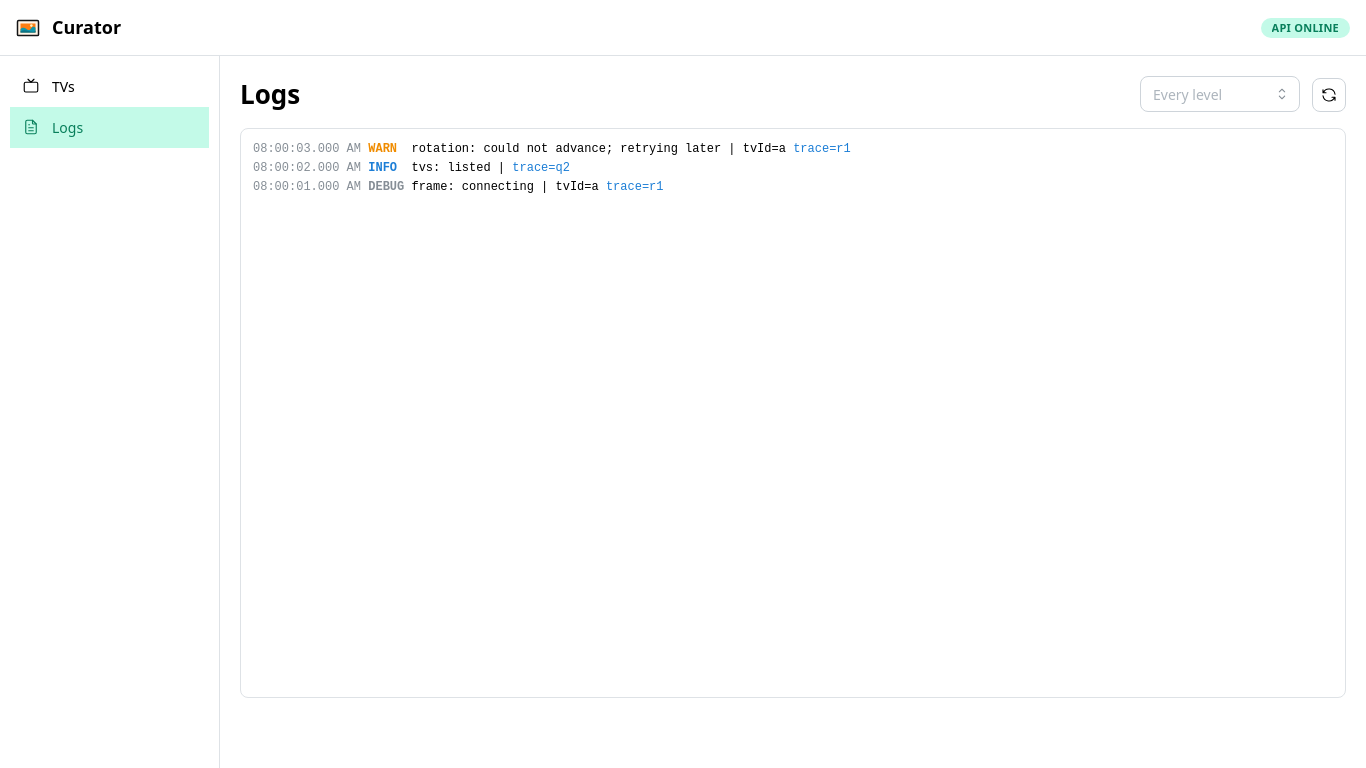
Test case: Logs page › narrows to one trace when its id is picked, and back
The width and height of the screenshot is (1366, 768).
Click the text "trace=r1" in the row of "WARN" at (815, 149), box [793, 142, 851, 156]
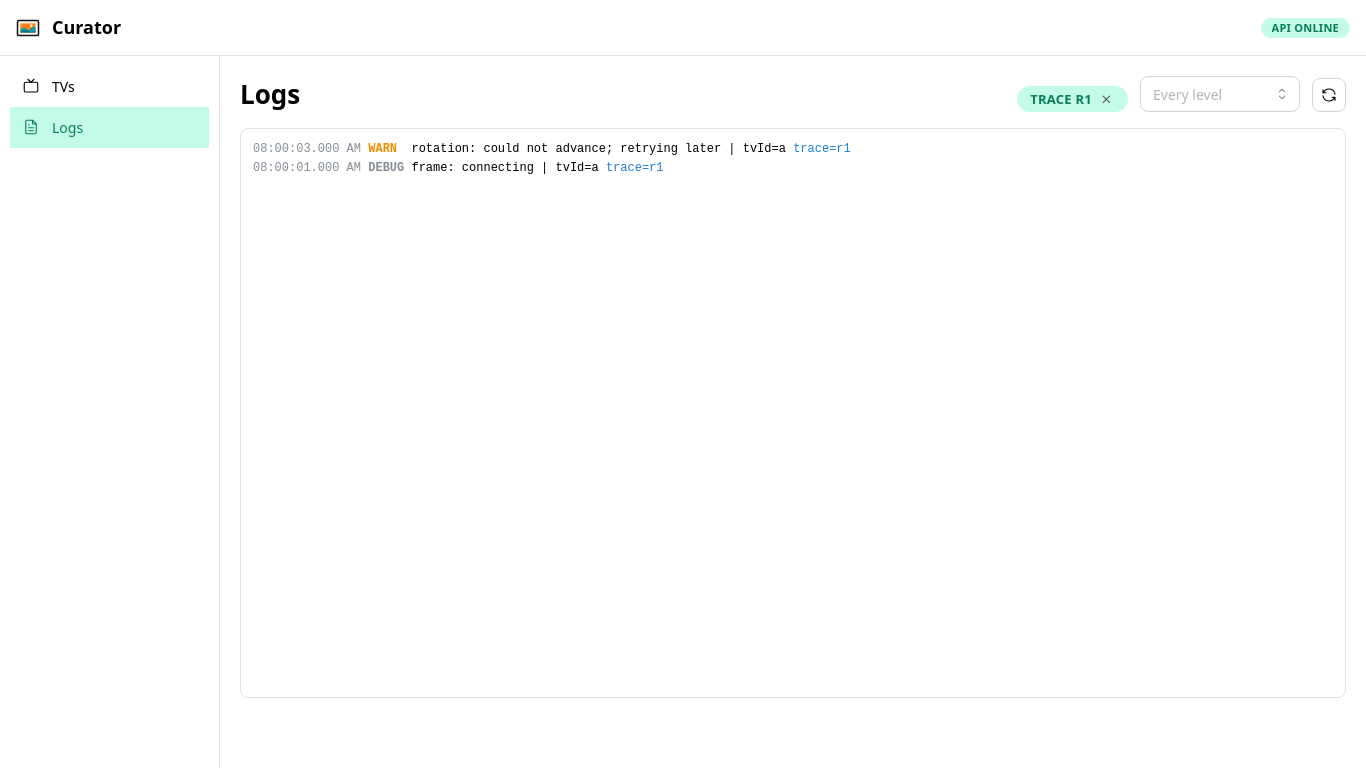
Expected: the text "08:00:01.000 AM DEBUG frame: connecting | tvId=a trace=r1" is shown, [253, 161, 664, 175]
Result: the text "tvs: listed" is gone
Click the button named "Show every trace" at (1106, 99), box [1097, 90, 1115, 108]
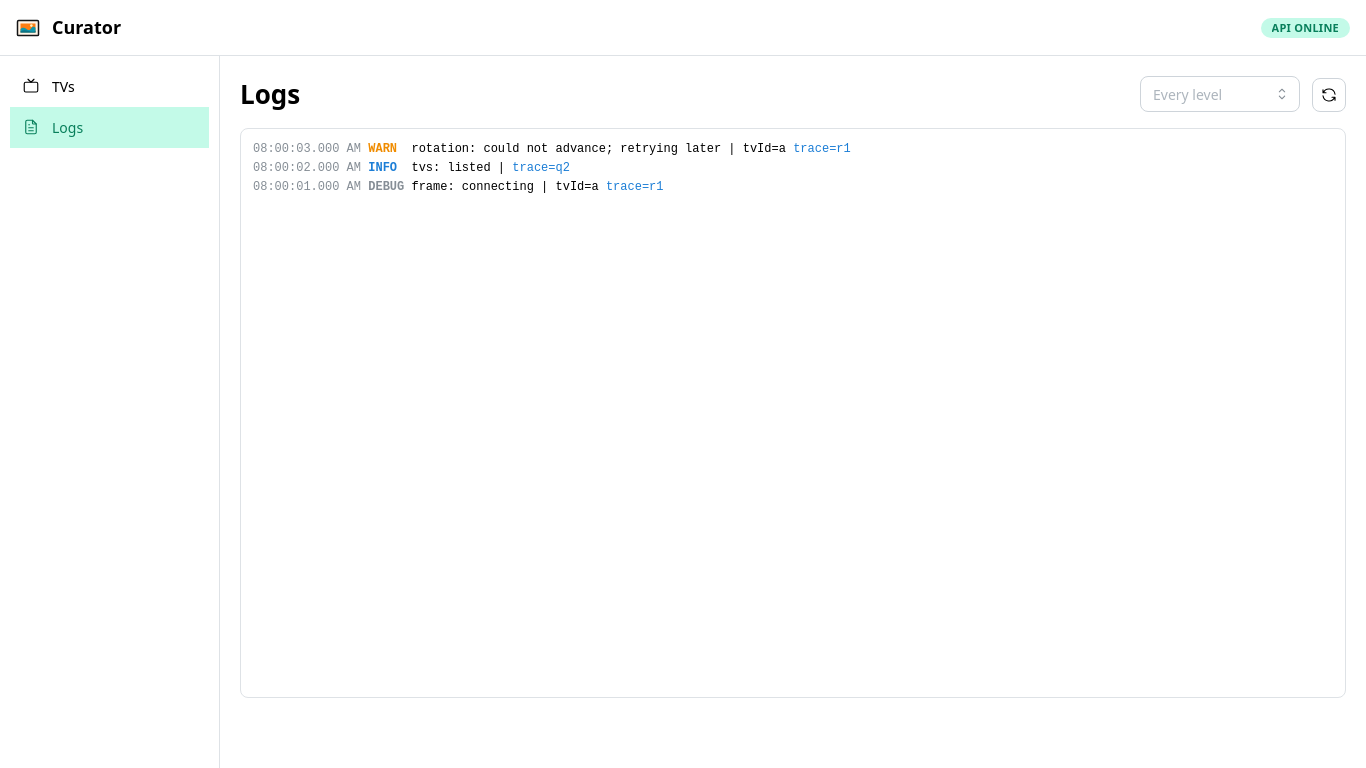
Result: the text "08:00:02.000 AM INFO tvs: listed | trace=q2" is shown at [253, 161, 570, 175]
